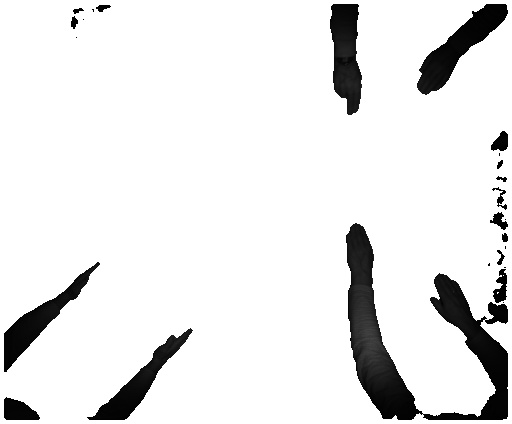hand: (424, 272, 474, 329), (328, 66, 367, 119), (416, 47, 458, 95), (344, 216, 375, 280)
spine: (63, 257, 103, 307), (154, 328, 199, 369)
